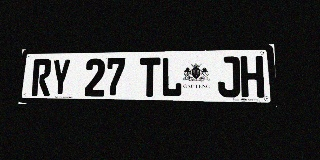2: (84, 58, 105, 96)
7: (105, 58, 126, 97)
H: (240, 56, 264, 98)
J: (217, 56, 240, 97)
L: (161, 57, 182, 97)
R: (31, 59, 52, 96)
T: (139, 57, 160, 97)
Y: (50, 59, 71, 96)
